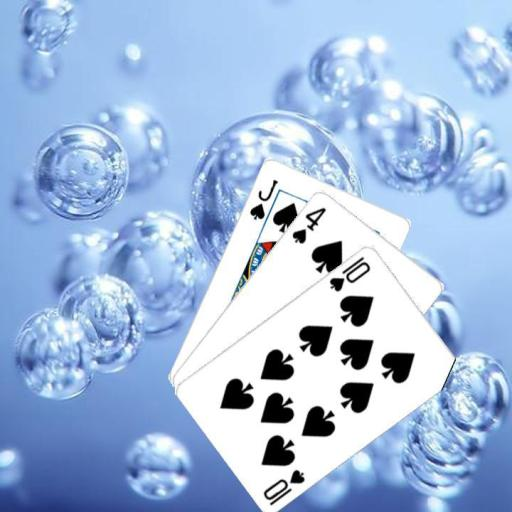10S: (326, 252, 373, 293), (260, 465, 307, 506)
4S: (289, 204, 328, 246)
JS: (246, 176, 280, 221)
